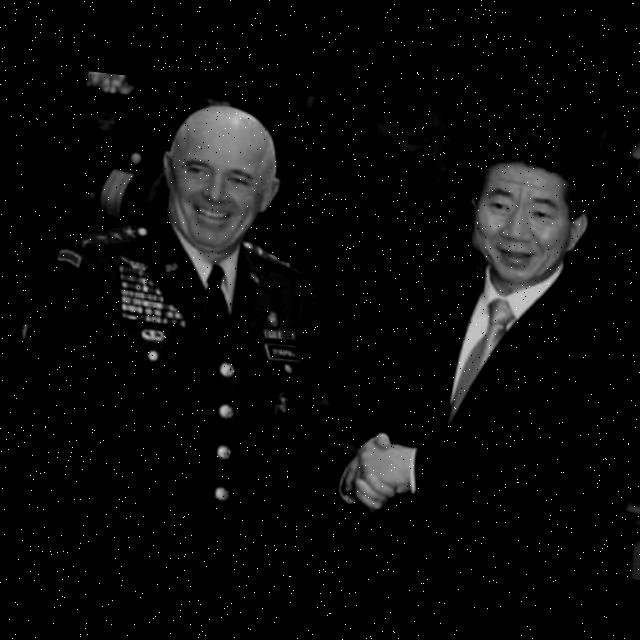face: (155, 93, 292, 259), (462, 138, 585, 295)
